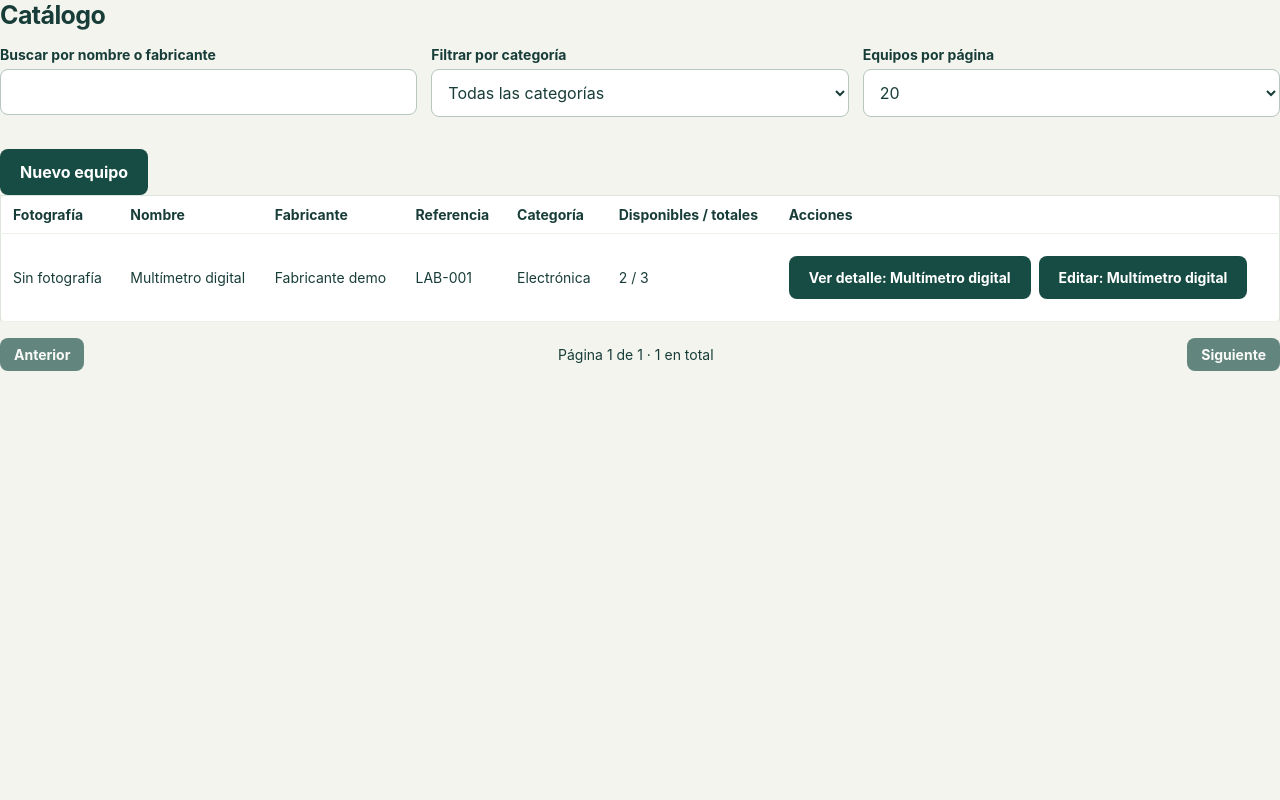
Test case: edits all mutable fields without sending the immutable reference
Click the button "Editar: Multímetro digital" at (1143, 278), box [1039,256,1247,299]
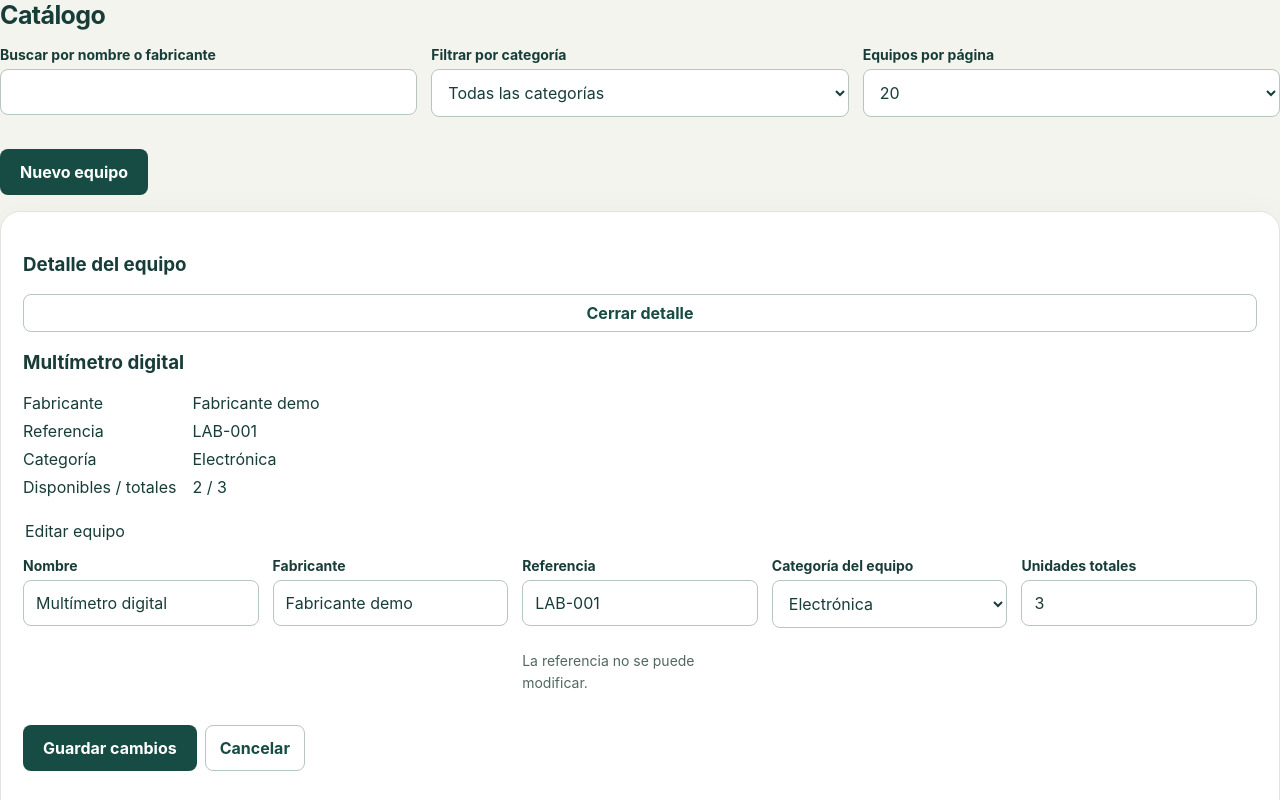
Replace the text in the field labelled "Nombre" with "Multímetro actualizado" at (141, 603), box [23,580,259,626]
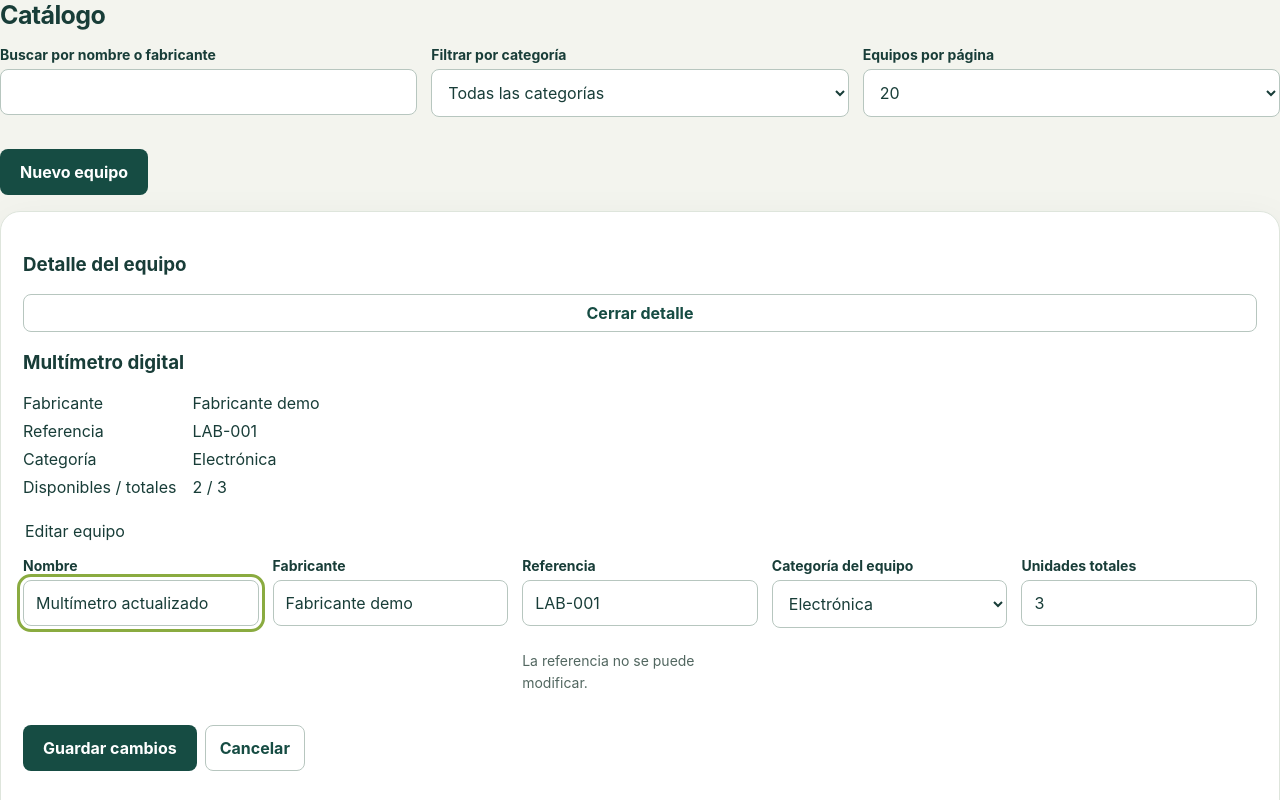
Click the button "Guardar cambios" at (110, 748), box [23,725,197,771]
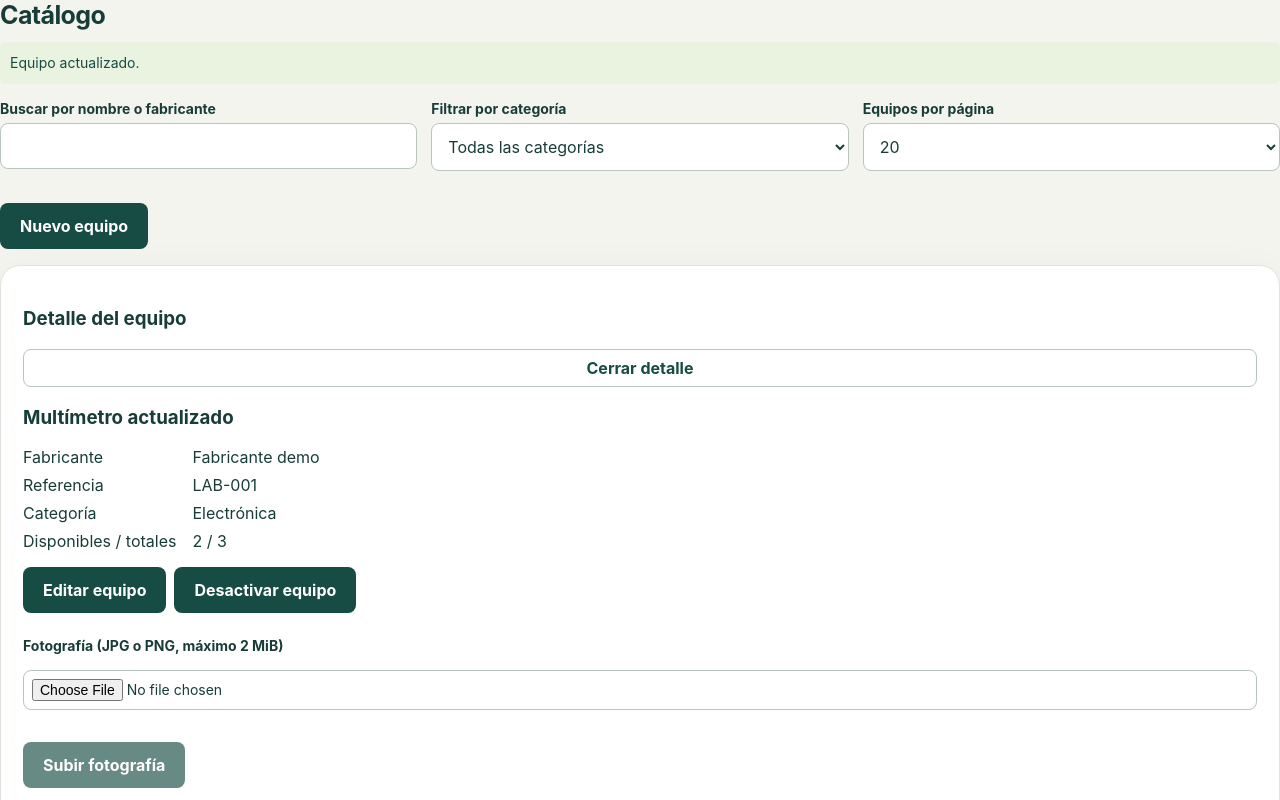
Result: the text "Equipo actualizado." is shown at [0,42,1279,84]
